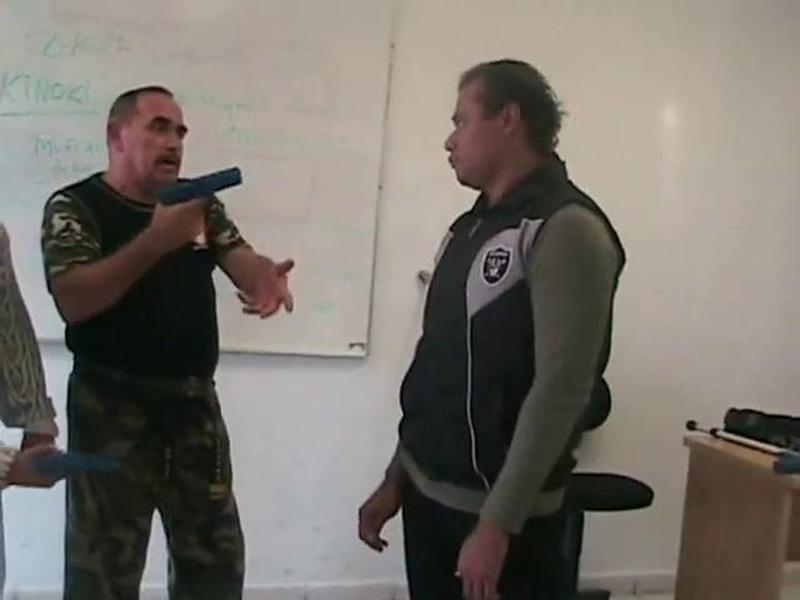Pistola: (140, 156, 247, 254)
